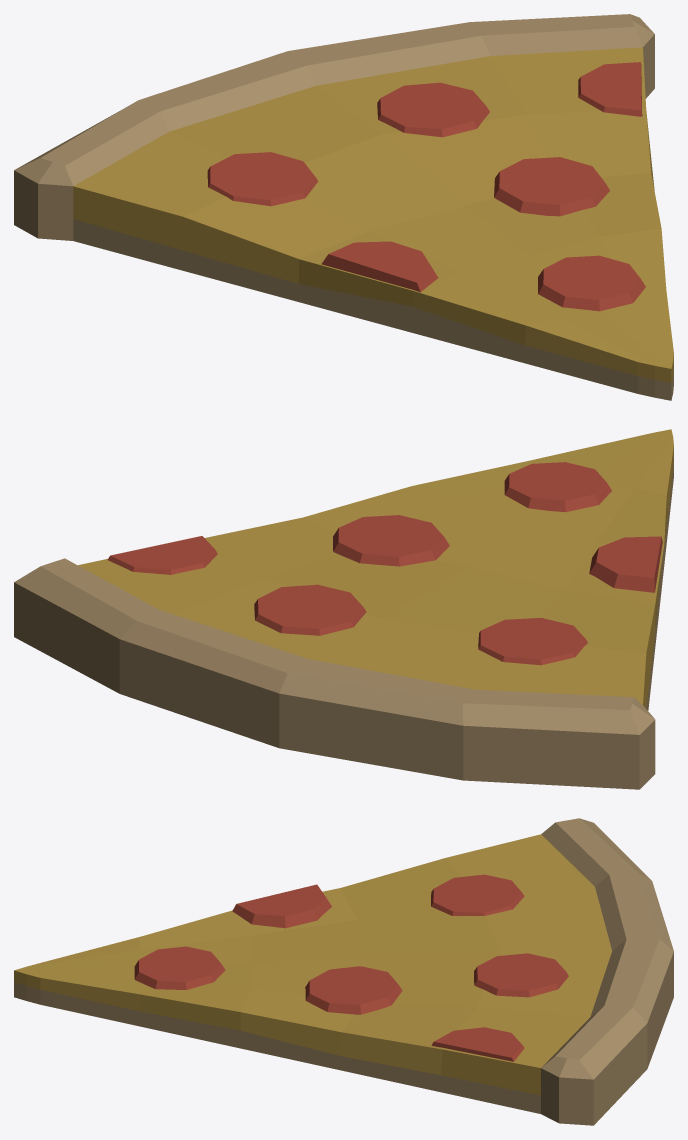
Rendered from Pizza_Slice.glb.
3 views of the same model, one above another, from view 1: azimuth 30°, elevation 25°; view 2: azimuth 150°, elevation 25°; view 3: azimuth 270°, elevation 25° (orthographic). The views are drawn at different scales.
Visible parts, largest first — view 1: Pizza_Slice; view 2: Pizza_Slice; view 3: Pizza_Slice.
Boxes of the visible parts, box(x1,y1,x2,y2) form: Pizza_Slice: box(14, 14, 673, 400); Pizza_Slice: box(14, 429, 673, 789); Pizza_Slice: box(14, 818, 673, 1125).
Size of the model in its own units: 0.1844 by 0.0194 by 0.2002.
